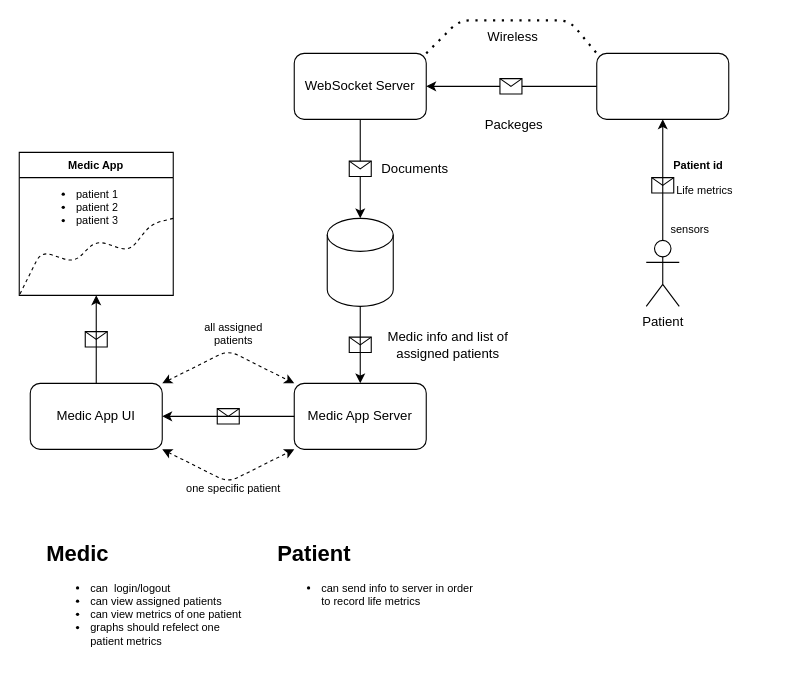
Image size: 787x688. Some labels were removed from this diagram. Each missing label, with the centre of its shape:
"MongoDB" goes at [359,261].
"WebSocket Client" goes at [662,85].
